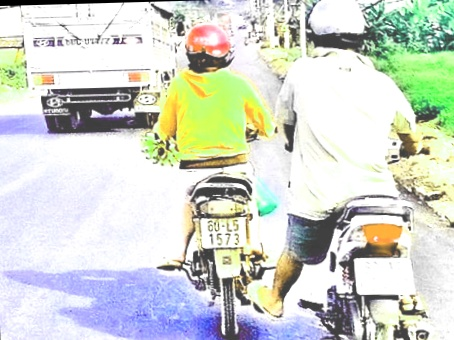Bien-so: (345, 254, 403, 290), (198, 212, 240, 240), (79, 68, 104, 81)
